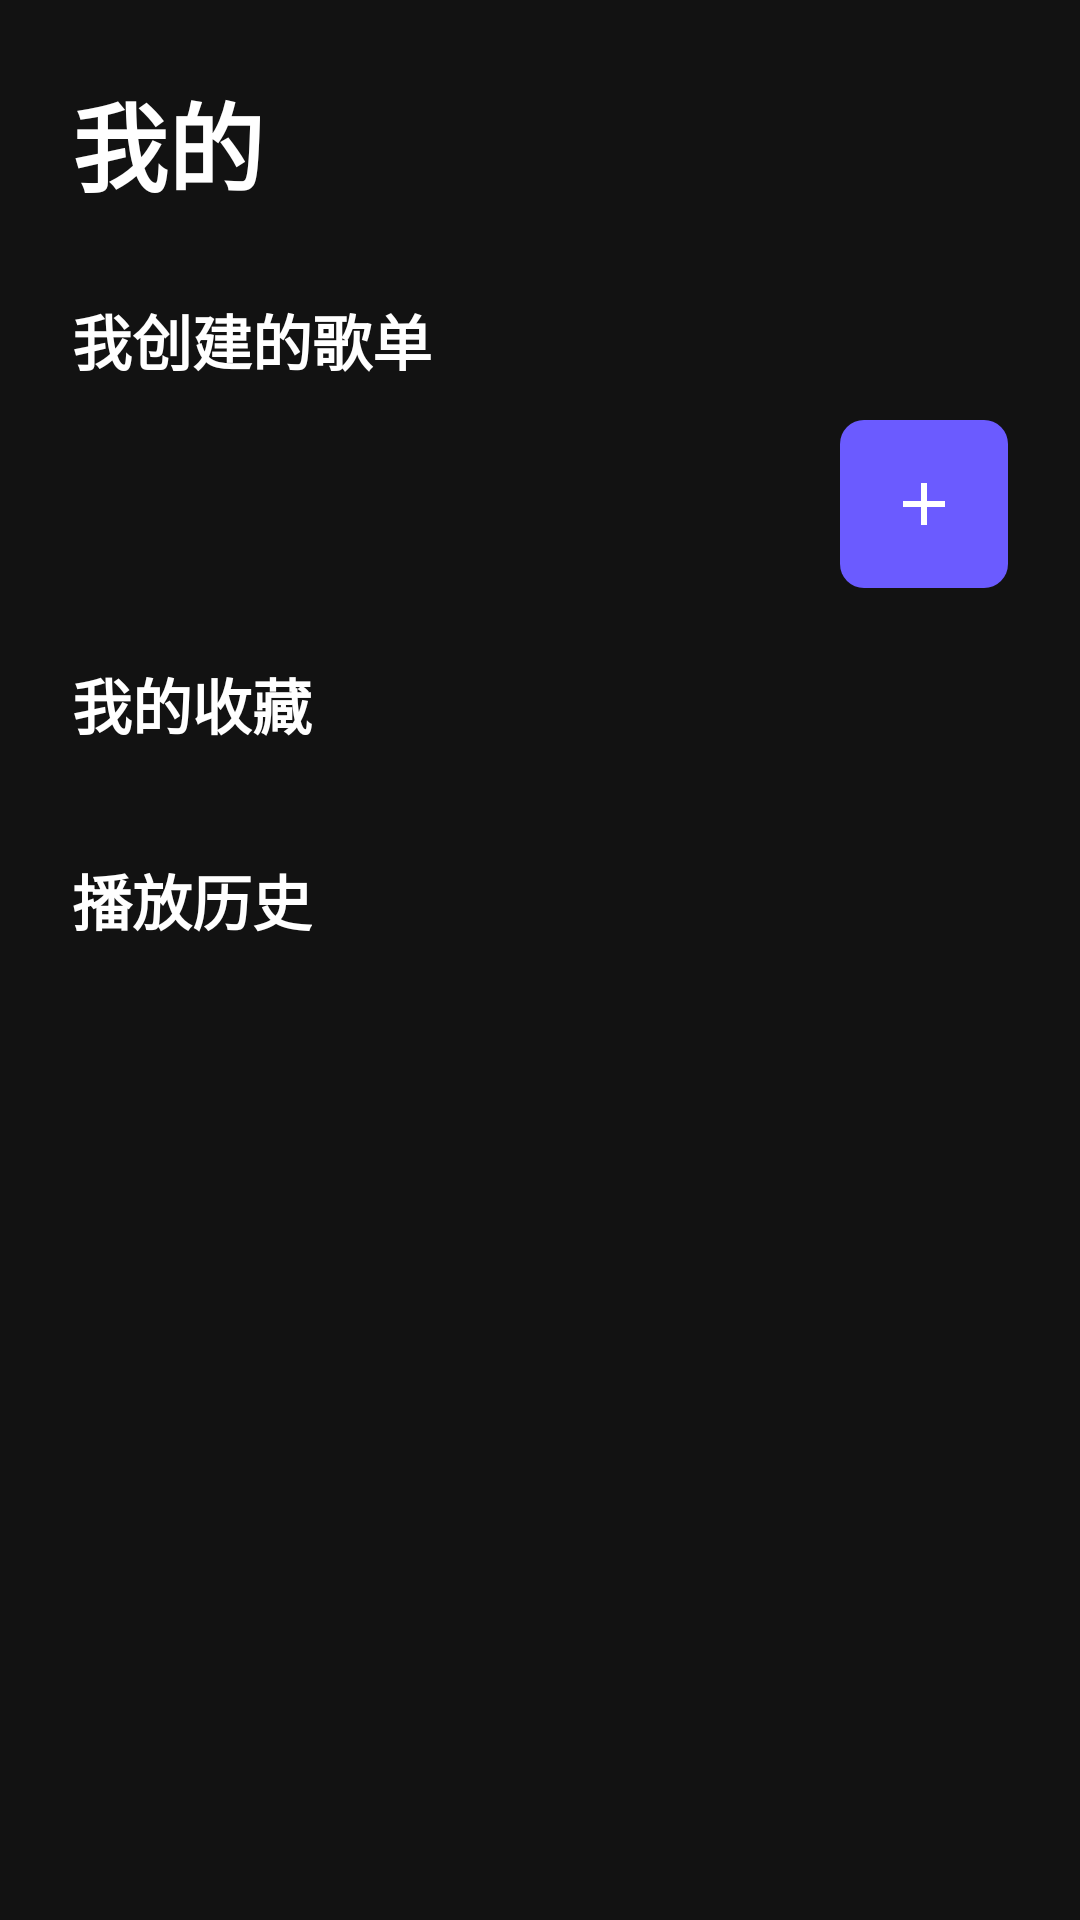

Locate icon controls on the screen. Image size 1080 × 1920, boxes as {"x1": x1, "y1": y1, "x2": x2, "y2": y2}.
新建歌单: {"x1": 840, "y1": 420, "x2": 1008, "y2": 588}
